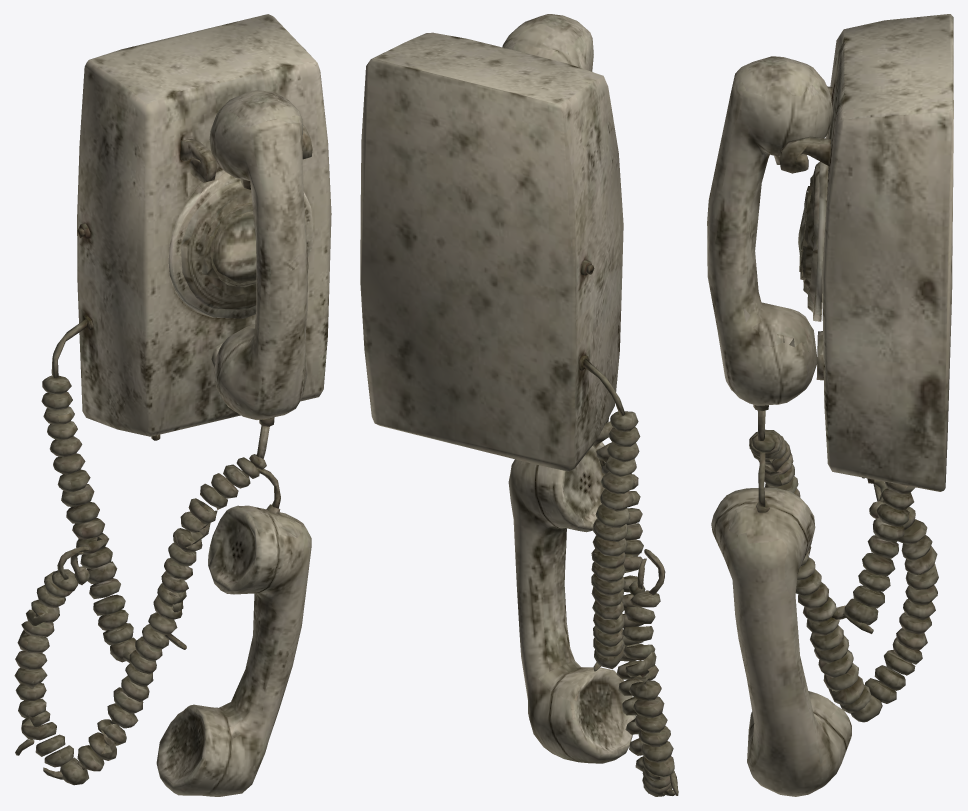
File: phone.glb
3 renders of one model, left to right at view 1: azimuth 30°, elevation 25°; view 2: azimuth 150°, elevation 25°; view 3: azimuth 270°, elevation 25°, orthographic. The views are drawn at different scales.
Bounding box in the file's own units: 0.4363 × 1 × 0.2992.
1 material, 1 textured.
